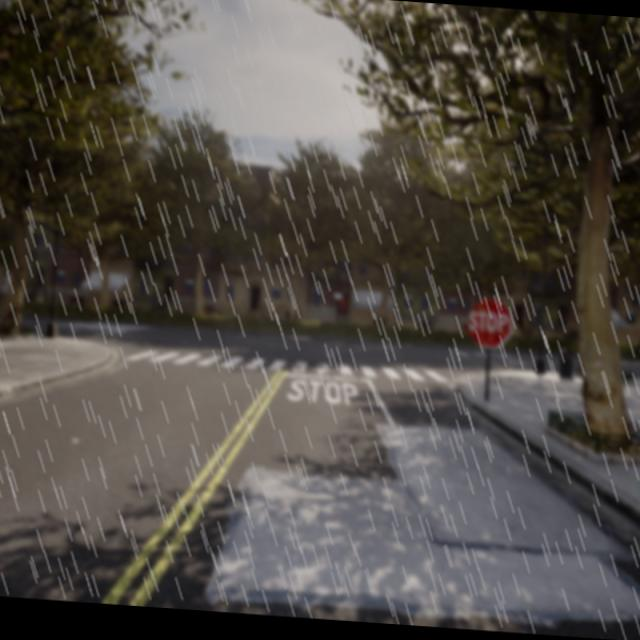stop sign: (464, 293, 514, 350)
